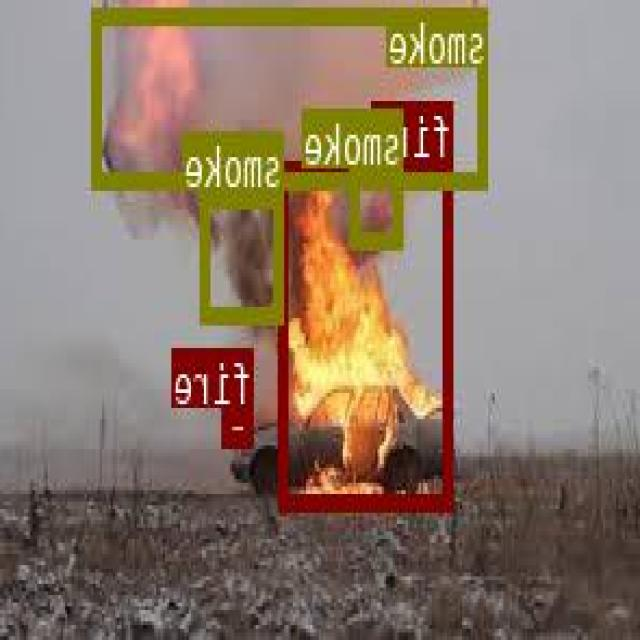fire: (280, 158, 454, 508), (224, 405, 254, 444)
smoke: (94, 5, 489, 187), (203, 188, 285, 318), (352, 166, 405, 247)
